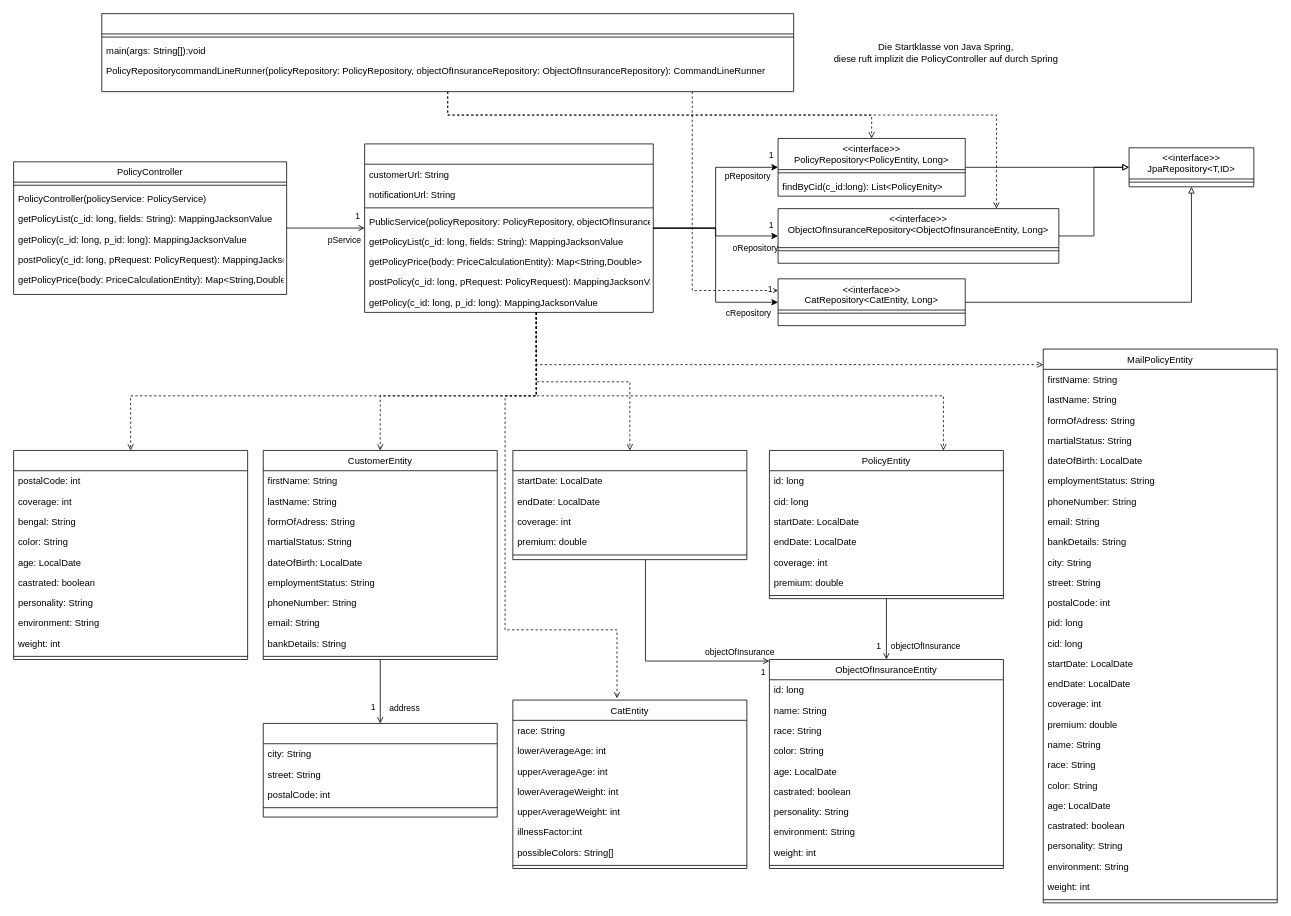
Image size: 1291x916. Some labels were removed from this diagram. The shapes that lost their labels are listed below. From the top down, each one's box as (x1, y1, x2, y2) in pixels, then its label:
(101, 13, 794, 92): PolicyApplikation
(364, 143, 653, 312): PolicyService
(512, 450, 747, 560): PolicyRequest
(13, 450, 248, 659): PriceCalculationEntity
(262, 723, 497, 817): AddressEntity
